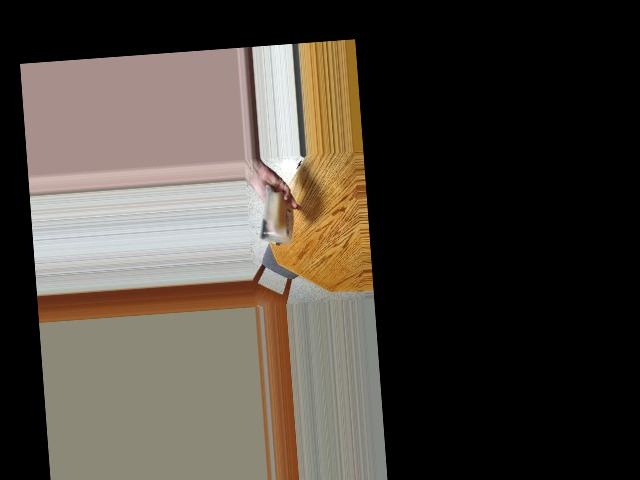cheese: (261, 193, 294, 242)
